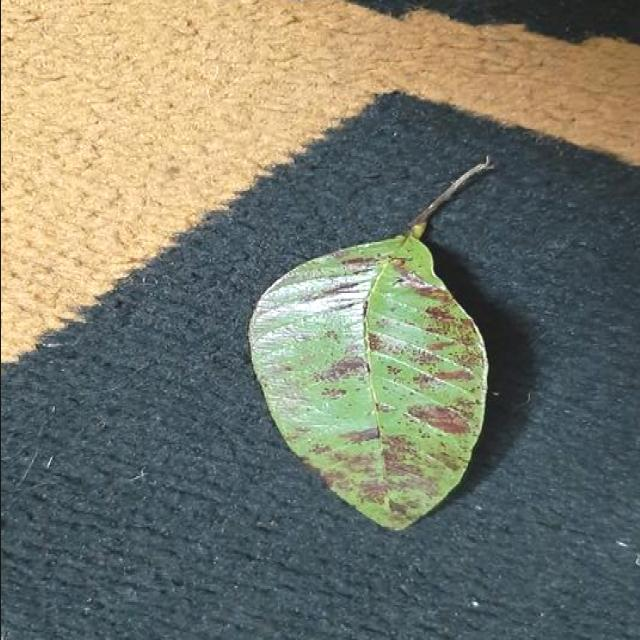leaf: (246, 154, 495, 531)
